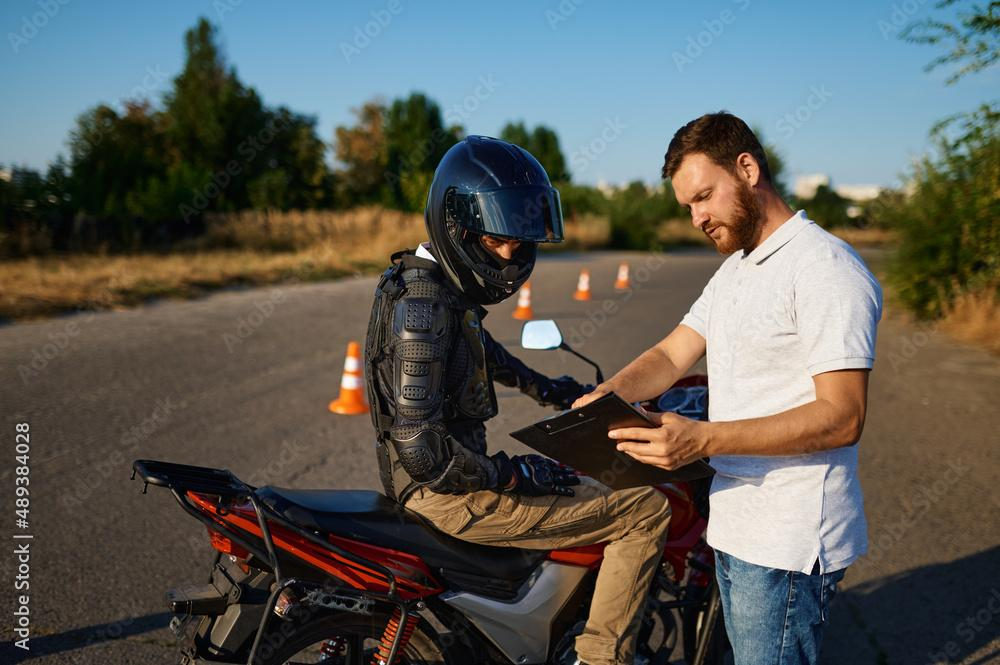helmet: (423, 133, 567, 306)
nohelmet: (660, 108, 776, 256)
